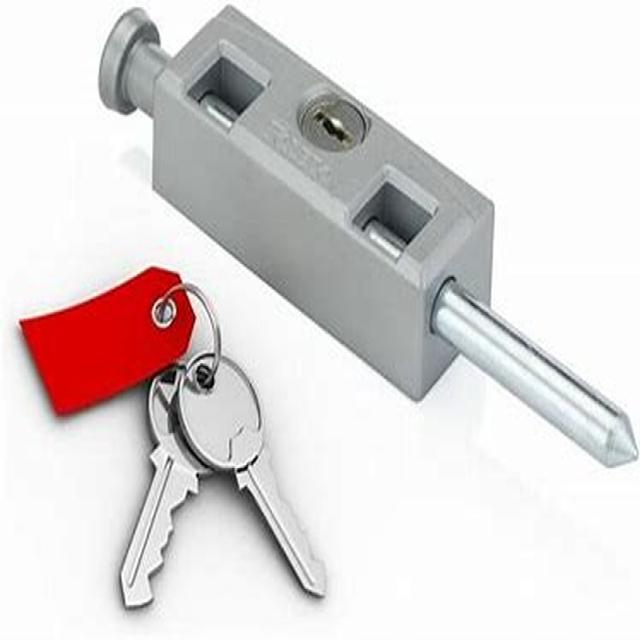key: (34, 215, 356, 609)
